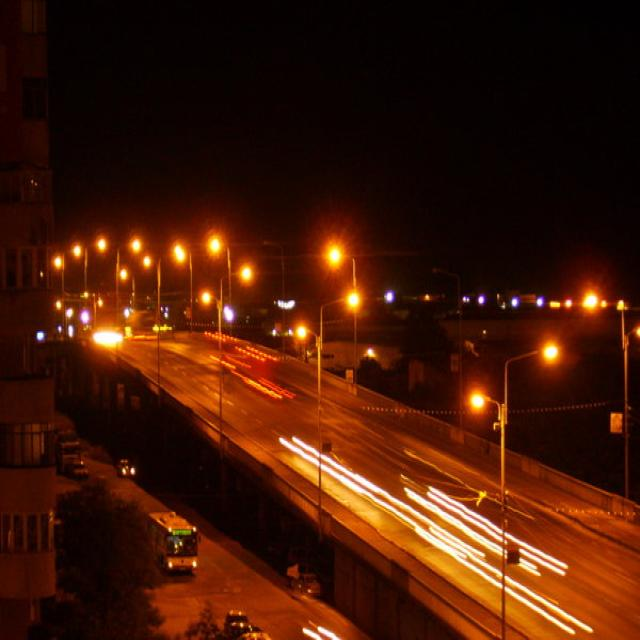Bus: (145, 498, 207, 588)
car: (221, 593, 256, 640), (109, 450, 147, 483)
